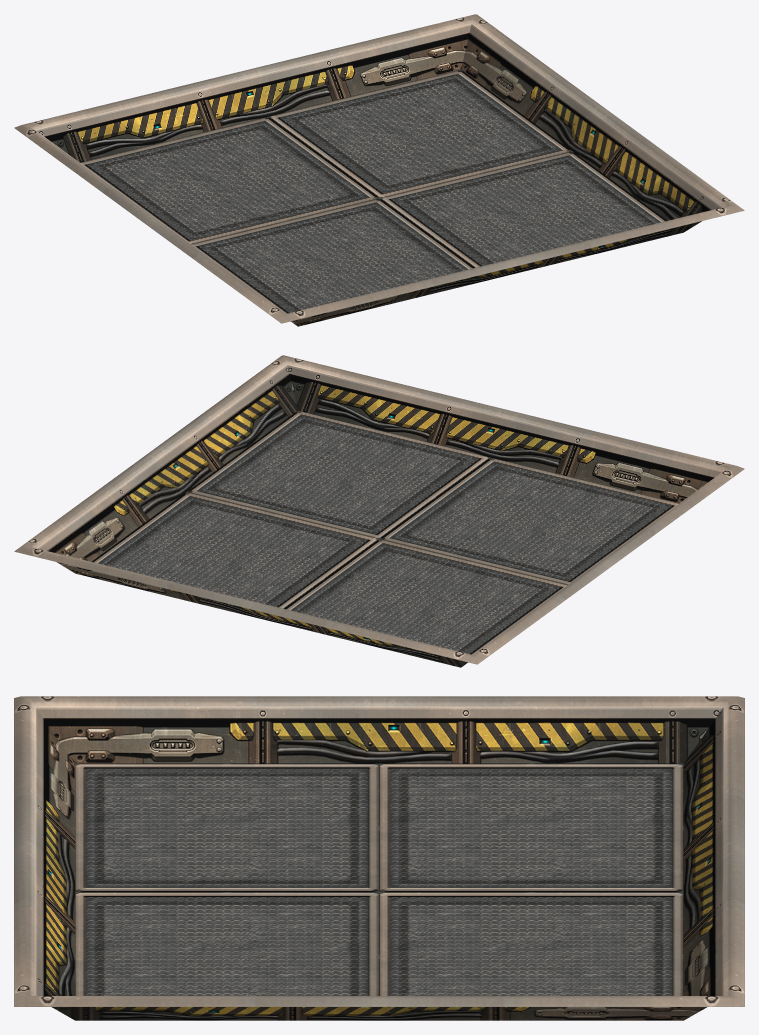
The model's file is mprw_floor_pool.FBX.
3 renders of one model, top to bottom at view 1: azimuth 30°, elevation 25°; view 2: azimuth 150°, elevation 25°; view 3: azimuth 270°, elevation 25°, orthographic. The views are drawn at different scales.
Parts seen in each view (by area): view 1: mprw_floor_pool; view 2: mprw_floor_pool; view 3: mprw_floor_pool.
Boxes of the visible parts, x1,y1,x2,y2 form: mprw_floor_pool: [14, 14, 744, 326]; mprw_floor_pool: [14, 355, 744, 667]; mprw_floor_pool: [14, 696, 744, 1020].
Bounding box in the file's own units: 744 × 49.86 × 744.
1 material, 1 textured.
